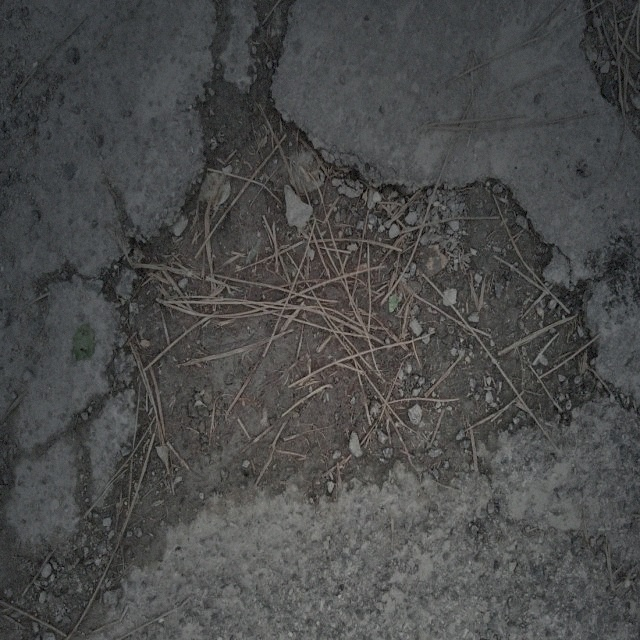pothole: (105, 110, 607, 527)
